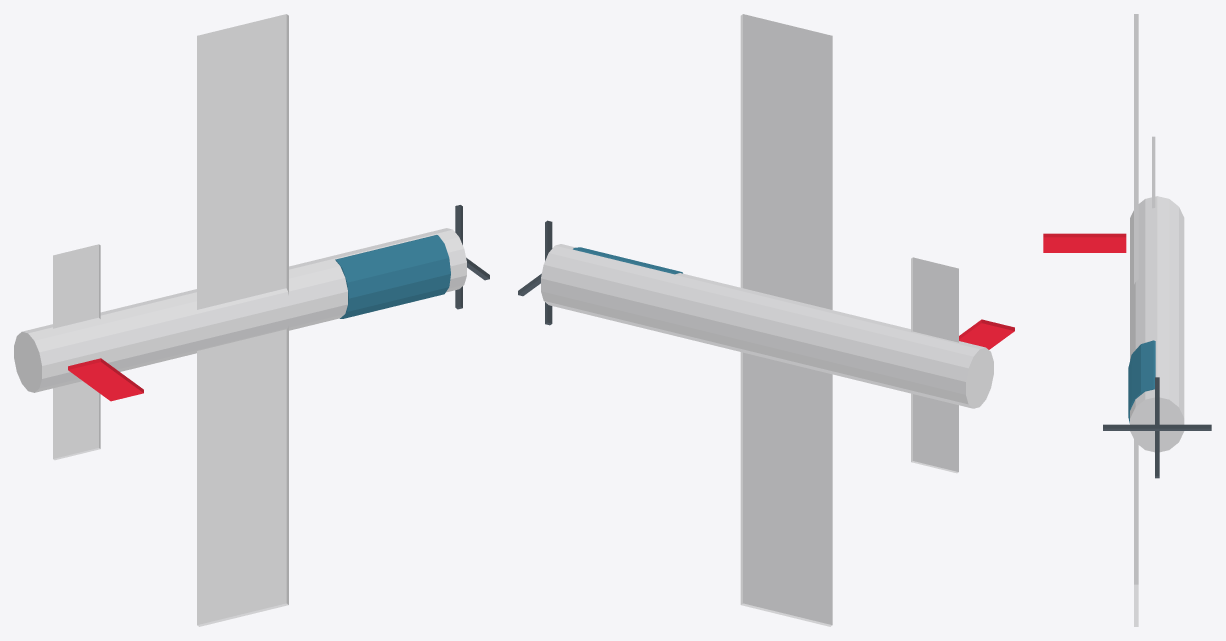
The picture shows the model from 3 angles, left to right: view 1: azimuth 30°, elevation 25°; view 2: azimuth 150°, elevation 25°; view 3: azimuth 270°, elevation 25°; orthographic projection. The views are drawn at different scales.
Visible parts, largest first — view 1: Cessna 172; view 2: Cessna 172; view 3: Cessna 172.
Part boxes in pixels (x1,y1,x2,y2): Cessna 172: (14,14,489,626); Cessna 172: (518,14,1014,626); Cessna 172: (1043,14,1211,626).
Size of the model in its own units: 8.47 by 11 by 2.94.
